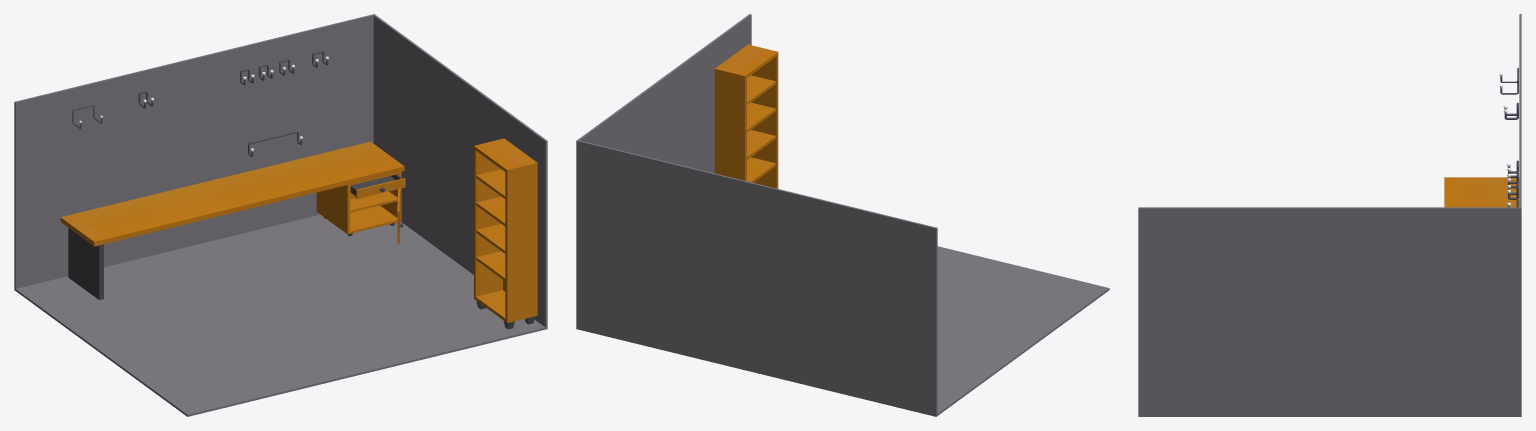
3 renders of one model, left to right at view 1: azimuth 30°, elevation 25°; view 2: azimuth 150°, elevation 25°; view 3: azimuth 270°, elevation 25°, orthographic. The views are drawn at different scales.
Visible parts, largest first — view 1: Base.001; view 2: Base.001; view 3: Base.001.
Boxes of the visible parts, x1,y1,x2,y2 form: Base.001: (14,14,547,416); Base.001: (576,14,1109,416); Base.001: (1138,14,1521,416).
Size of the model in its own units: 600 by 500 by 300.
